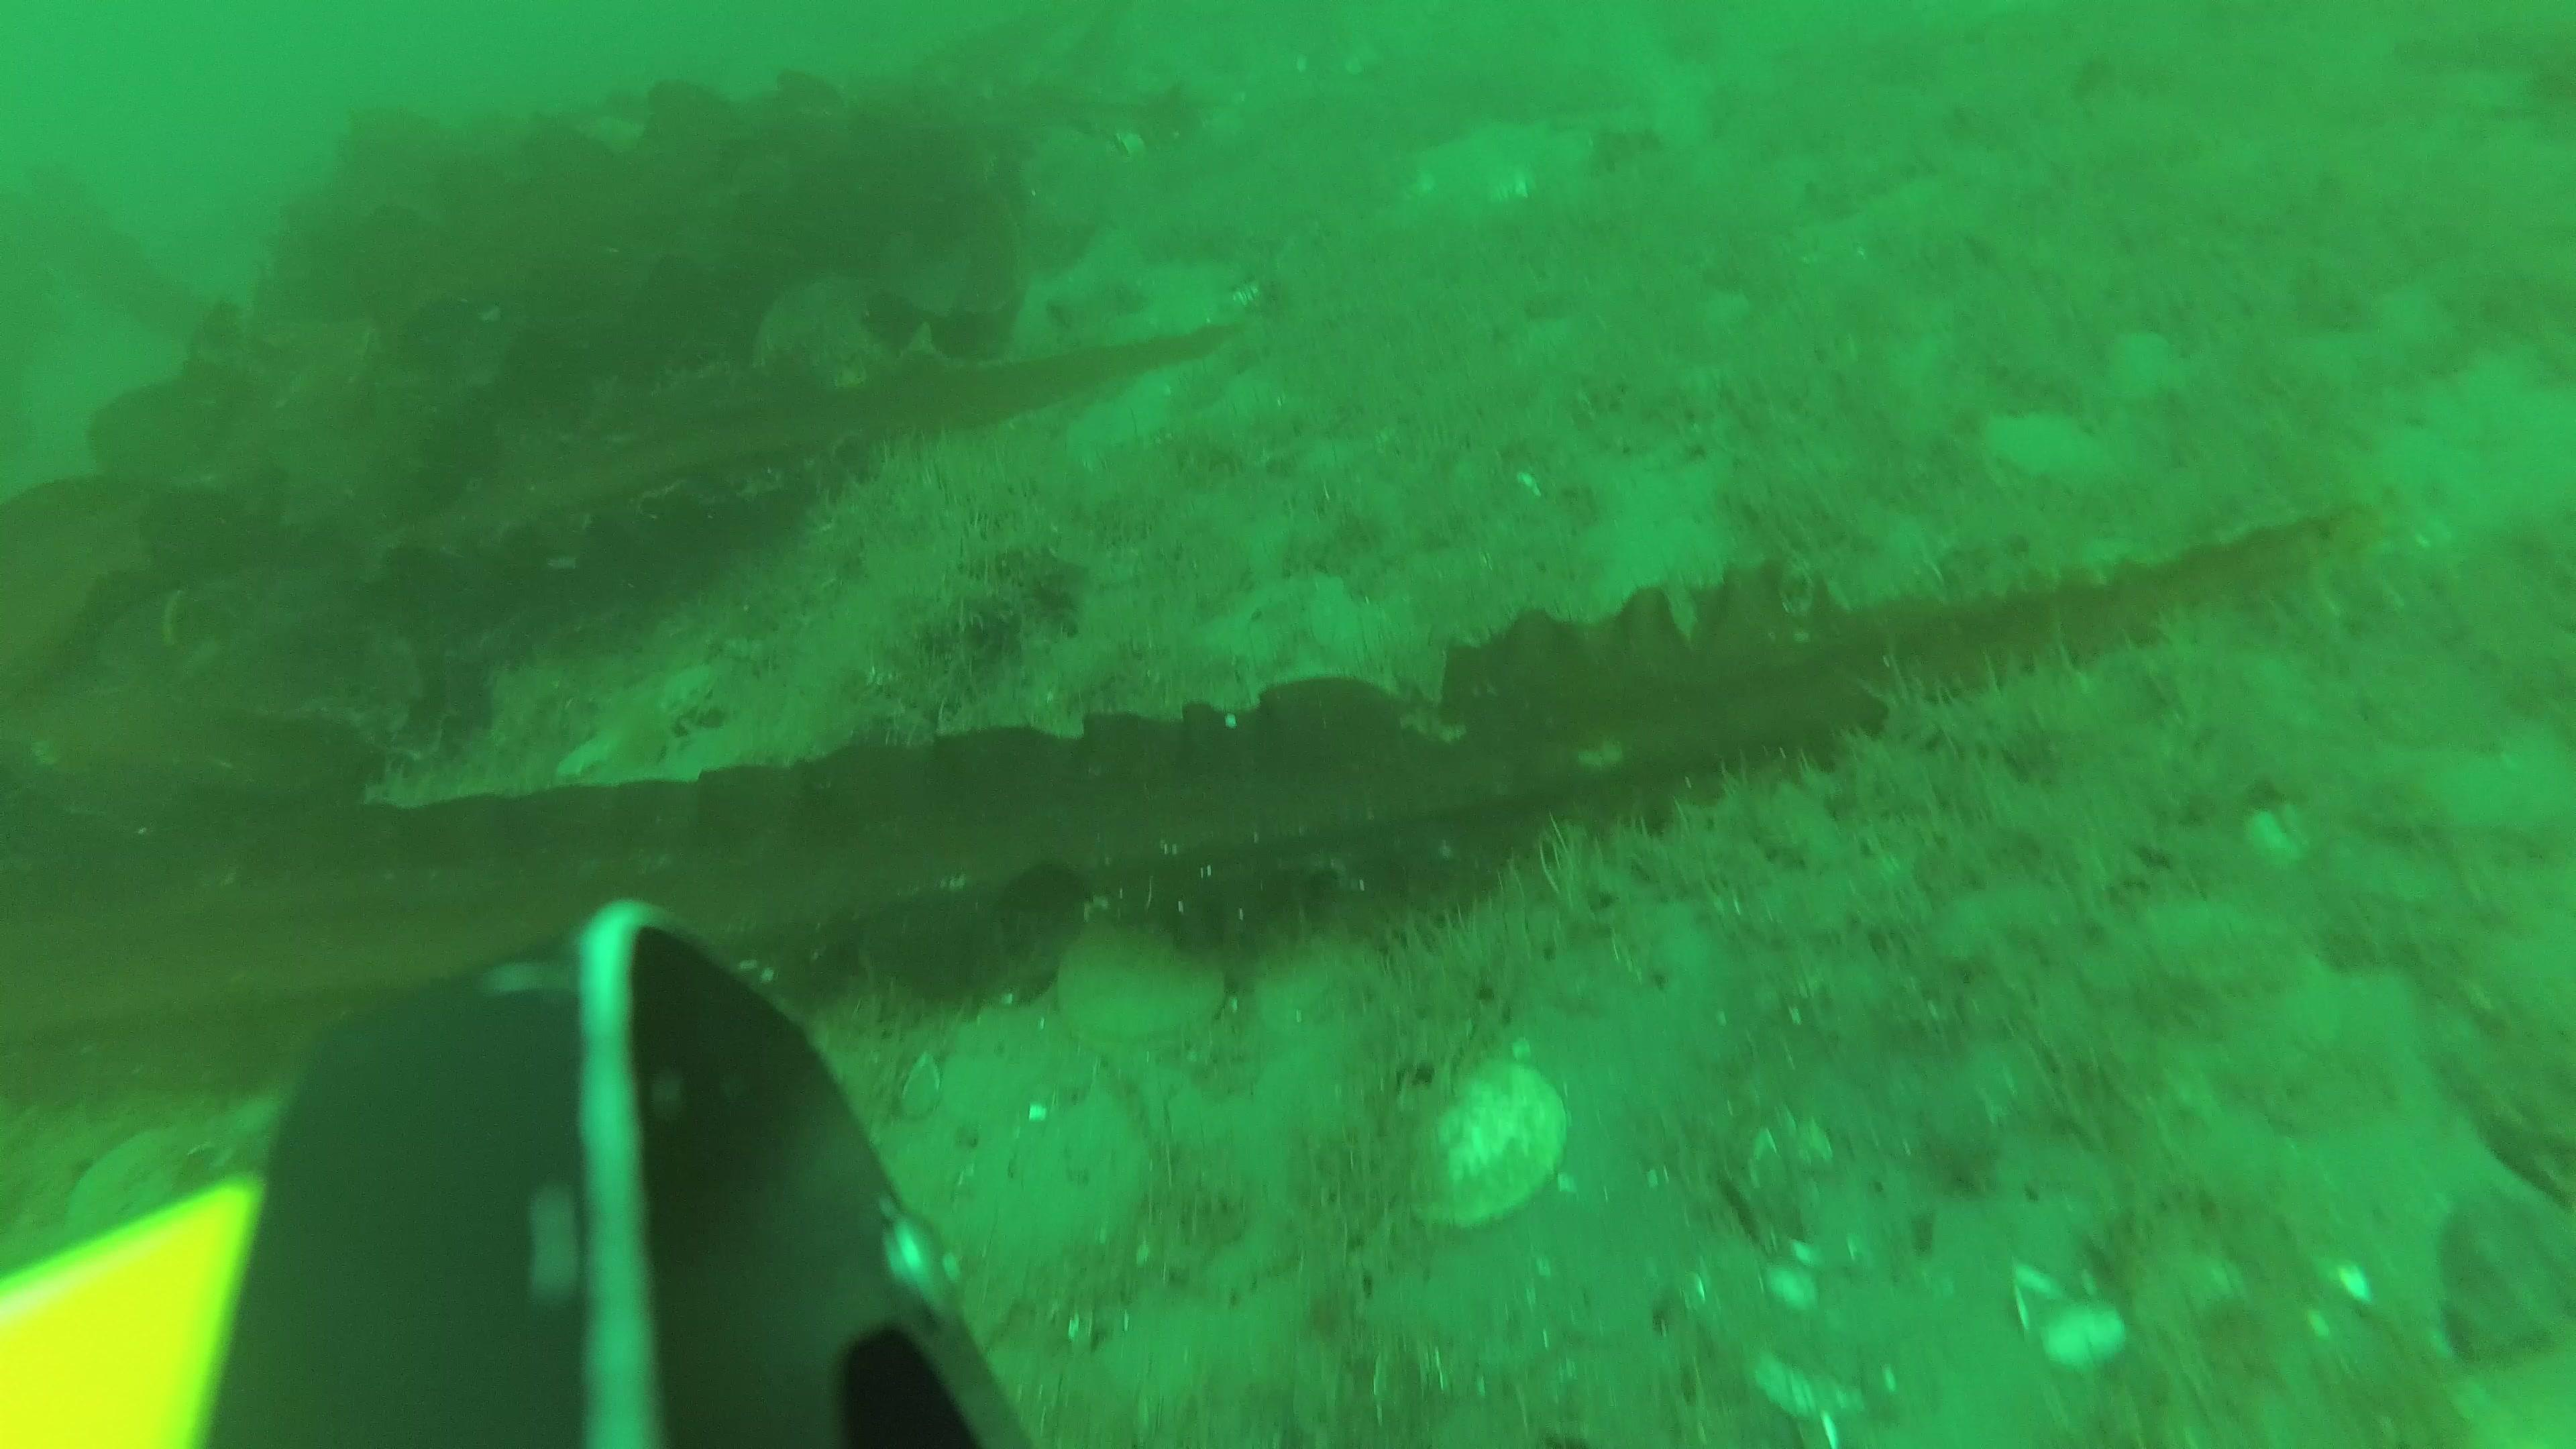scallop: (1401, 1067, 1569, 1226), (1053, 922, 1226, 1062)
